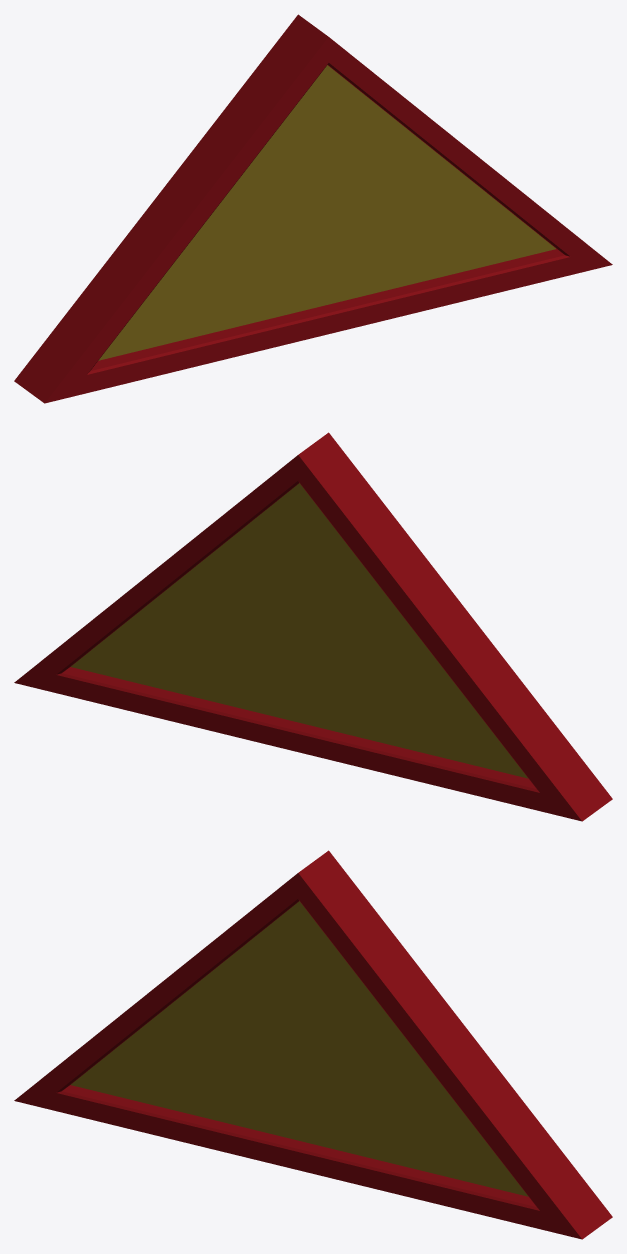
Rendered from SM_MH_01_Plaster_Wall_Roof_Top_01.fbx.
The picture shows the model from 3 angles, top to bottom: view 1: azimuth 30°, elevation 25°; view 2: azimuth 150°, elevation 25°; view 3: azimuth 330°, elevation 25°; orthographic projection.
Parts seen in each view (by area): view 1: SM_MH_01_Plaster_Wall_Roof_Top_01_LOD0; view 2: SM_MH_01_Plaster_Wall_Roof_Top_01_LOD0; view 3: SM_MH_01_Plaster_Wall_Roof_Top_01_LOD0.
Boxes of the visible parts, bbox=[...] form: SM_MH_01_Plaster_Wall_Roof_Top_01_LOD0: bbox=[14, 14, 612, 403]; SM_MH_01_Plaster_Wall_Roof_Top_01_LOD0: bbox=[14, 432, 612, 821]; SM_MH_01_Plaster_Wall_Roof_Top_01_LOD0: bbox=[14, 850, 612, 1239].
Size of what is drawn, in the model's own units: 300 by 150 by 28.
